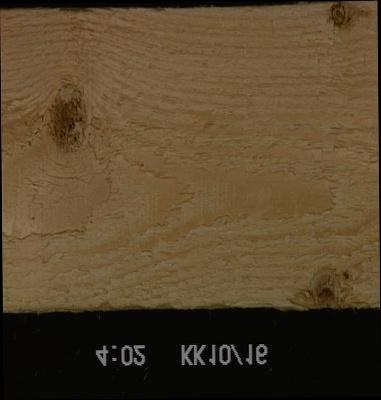edge_knot: (286, 265, 367, 310), (327, 0, 347, 28)
